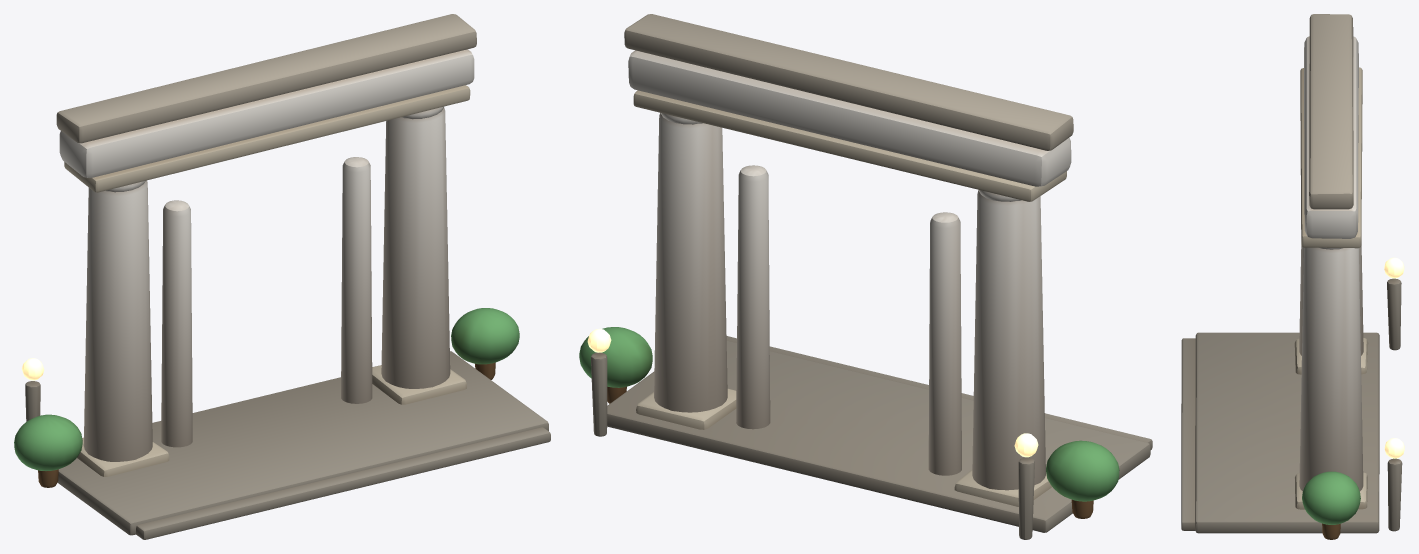
3 renders of one model, left to right at view 1: azimuth 30°, elevation 25°; view 2: azimuth 150°, elevation 25°; view 3: azimuth 270°, elevation 25°, orthographic. The views are drawn at different scales.
Parts seen in each view (by area): view 1: gate_ab759a65; view 2: gate_ab759a65; view 3: gate_ab759a65.
Boxes of the visible parts, x1,y1,x2,y2 form: gate_ab759a65: (14,14,550,539); gate_ab759a65: (579,14,1152,539); gate_ab759a65: (1181,14,1404,539).
Size of the model in its own units: 6.08 by 4.24 by 2.55.
